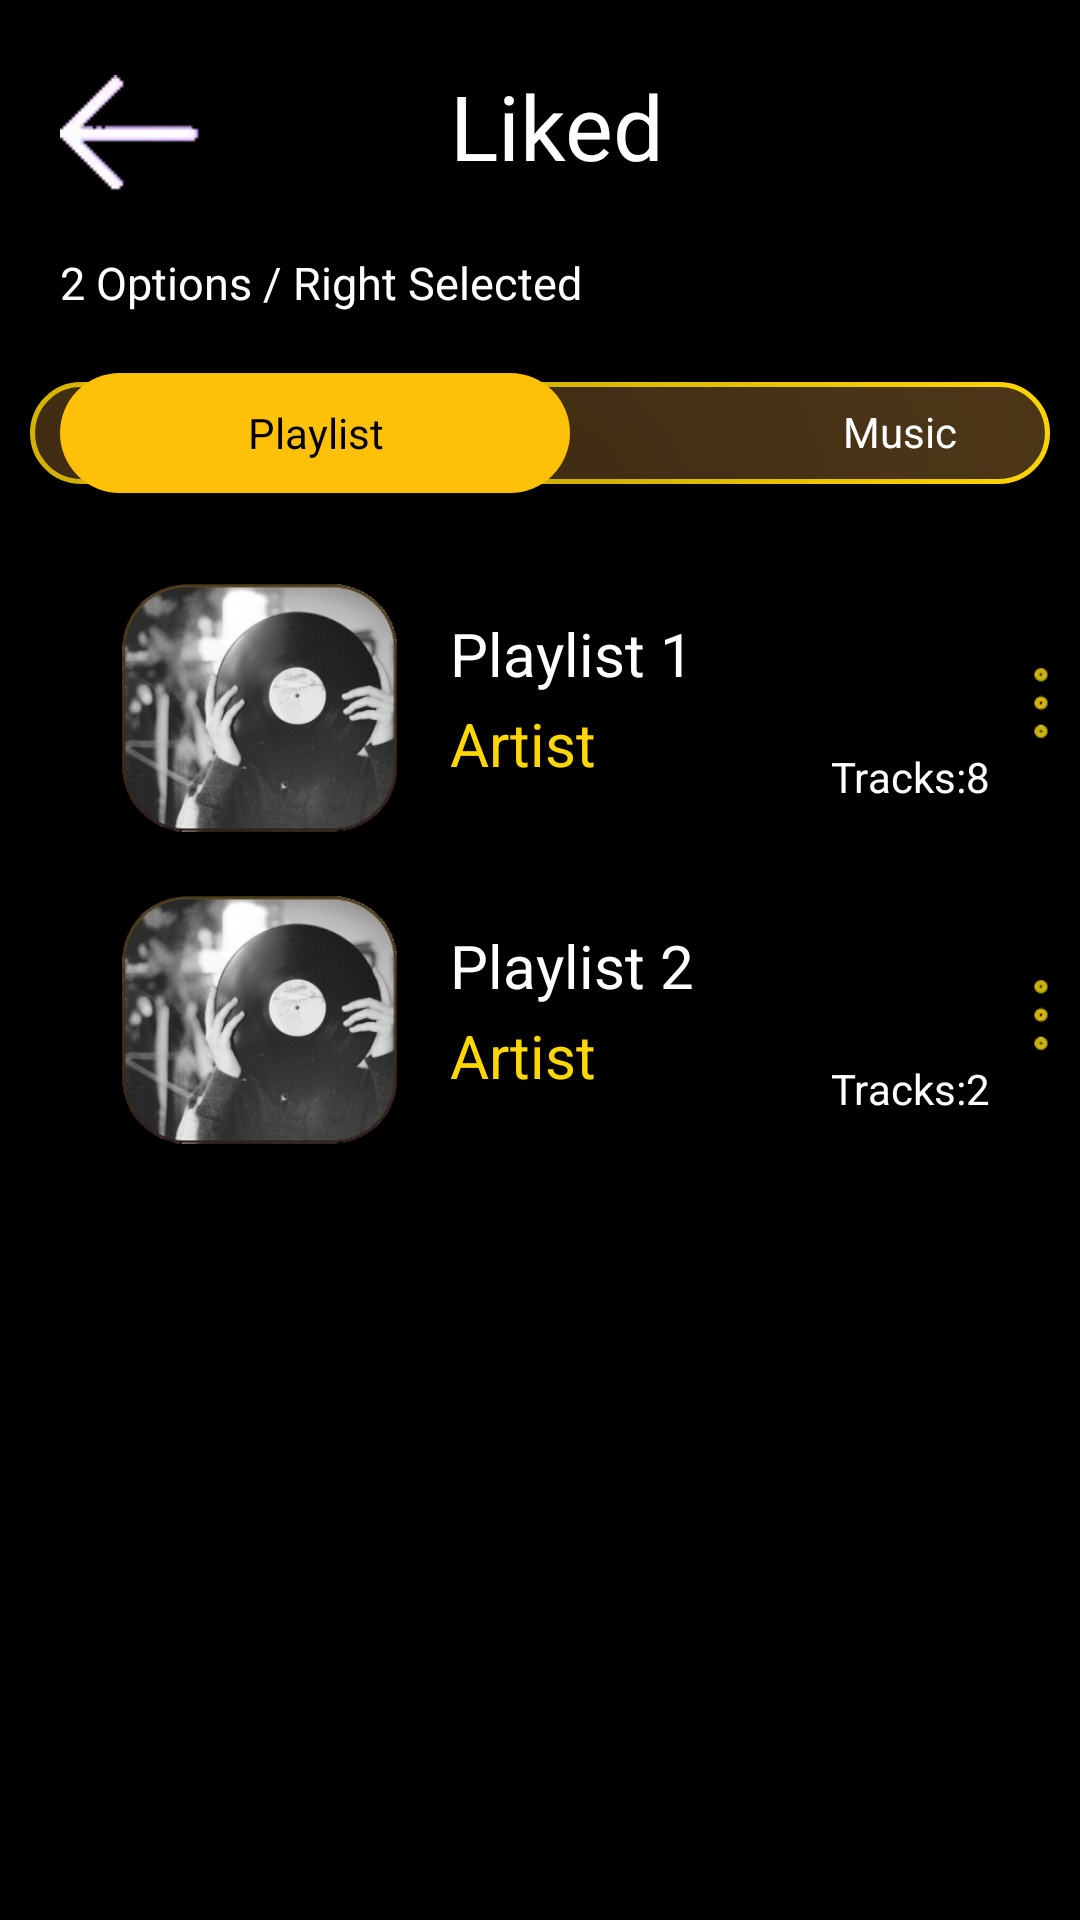

Screen size 1080 × 1920. Icon name, then its center in pixels as point (x, y):
back: point (129, 132)
disk: point (259, 708), point (259, 1020)
moreoptn: point (1041, 703), point (1041, 1015)
